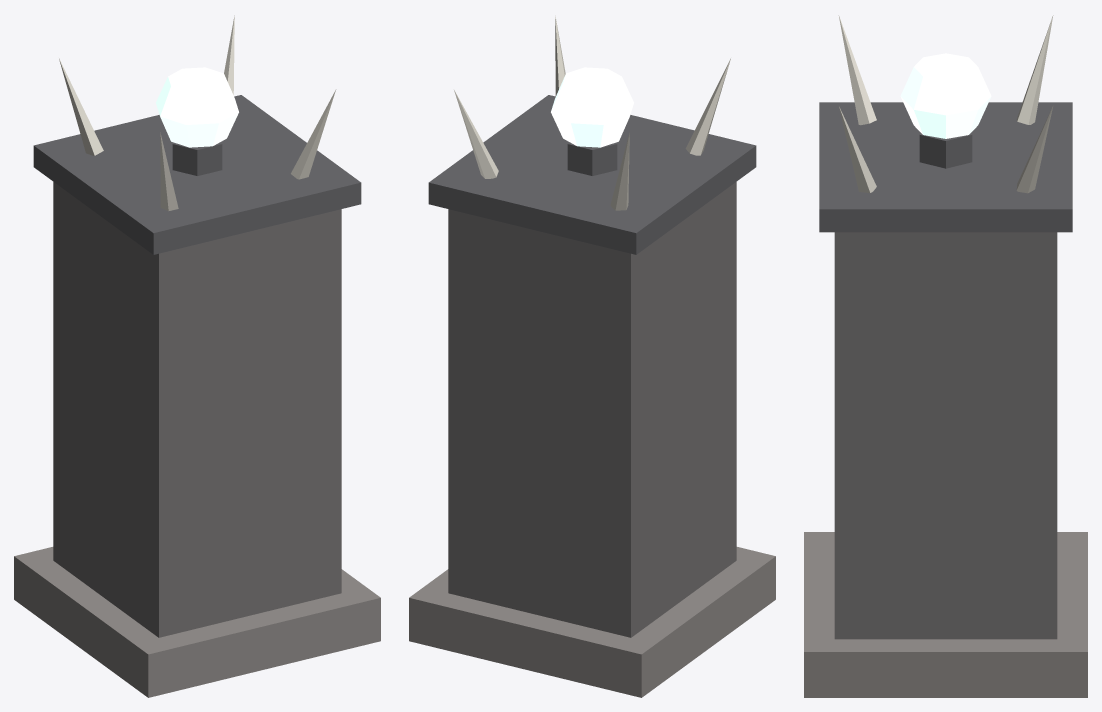
3 renders of one model, left to right at view 1: azimuth 30°, elevation 25°; view 2: azimuth 150°, elevation 25°; view 3: azimuth 270°, elevation 25°, orthographic. The views are drawn at different scales.
Parts seen in each view (by area): view 1: body; view 2: body; view 3: body.
Boxes of the visible parts, left/top/right/bottom form: body: left=14, top=15, right=380, bottom=697; body: left=409, top=15, right=775, bottom=697; body: left=804, top=15, right=1087, bottom=697.
Size of the model in its own units: 5.6 by 12.7 by 5.6.
